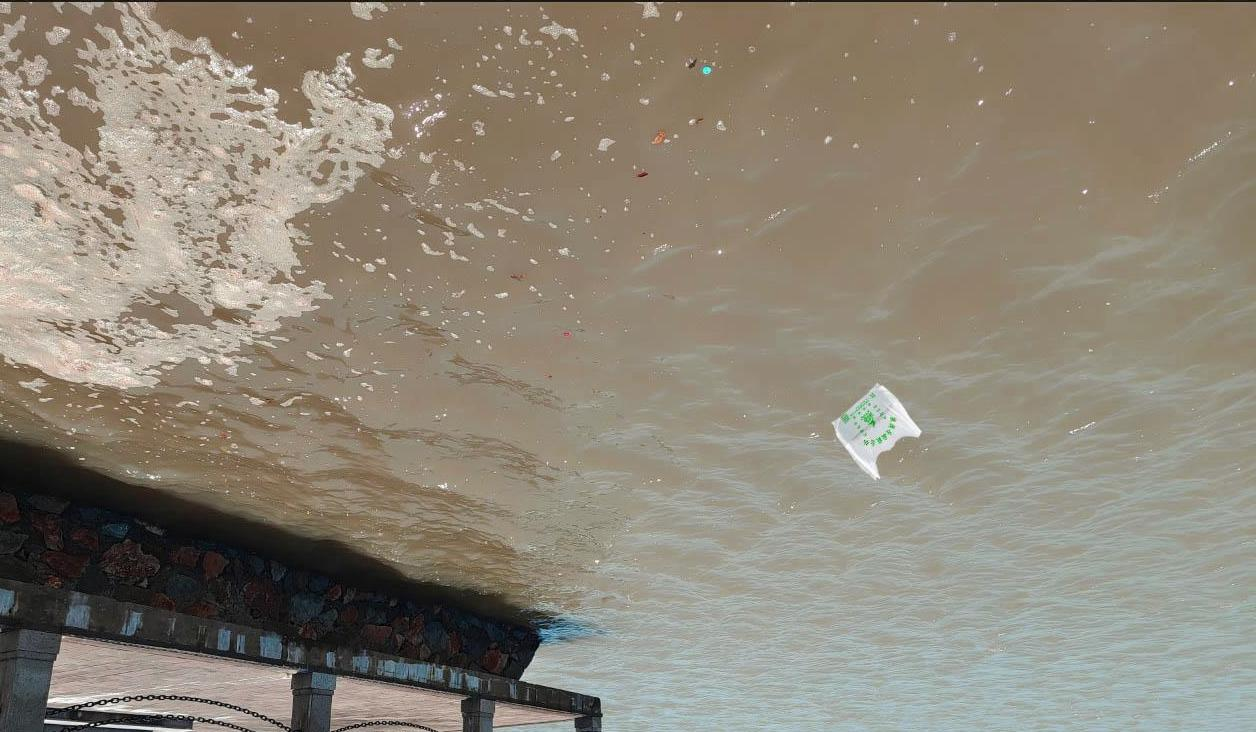Trash: (834, 381, 923, 482)
